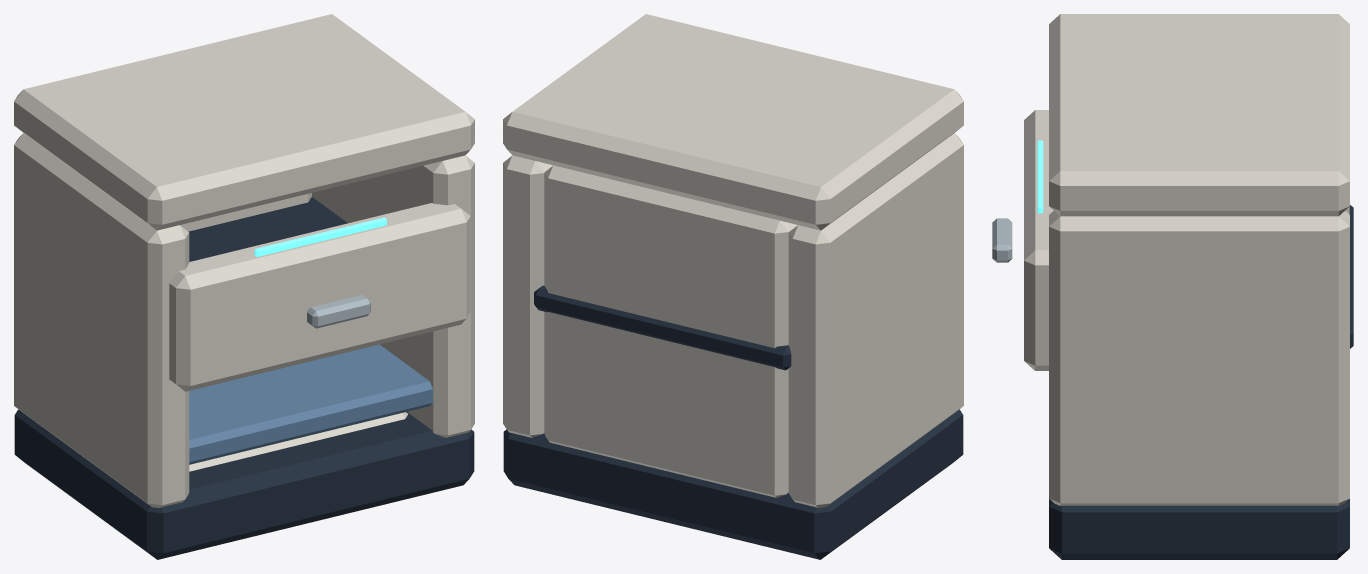
The model's file is living_12.glb.
3 views of the same model, side by side, from view 1: azimuth 30°, elevation 25°; view 2: azimuth 150°, elevation 25°; view 3: azimuth 270°, elevation 25° (orthographic). The views are drawn at different scales.
Visible parts, largest first — view 1: Top, Side (×2), DrawerFace, Base, OpenShelf, DrawerBase, Bottom, Handle, StatusLight, Back; view 2: Back, Side (×2), Top, Base, DrawerBase; view 3: Side, Top, Base, DrawerFace, Handle, DrawerBase, StatusLight.
Part boxes in pixels (bbox=[...]): Top: bbox=[14, 14, 474, 230]; Side (×2): bbox=[14, 133, 474, 507]; DrawerFace: bbox=[169, 203, 470, 391]; Base: bbox=[14, 409, 474, 559]; OpenShelf: bbox=[189, 344, 432, 464]; DrawerBase: bbox=[188, 197, 347, 261]; Bottom: bbox=[189, 412, 407, 471]; Handle: bbox=[307, 295, 370, 328]; StatusLight: bbox=[254, 217, 386, 256]; Back: bbox=[180, 193, 311, 231]; Back: bbox=[544, 165, 797, 497]; Side (×2): bbox=[503, 133, 963, 507]; Top: bbox=[503, 14, 963, 230]; Base: bbox=[503, 409, 963, 559]; DrawerBase: bbox=[534, 285, 791, 370]; Side: bbox=[1049, 211, 1349, 505]; Top: bbox=[1049, 14, 1349, 216]; Base: bbox=[1049, 499, 1349, 559]; DrawerFace: bbox=[1024, 110, 1053, 370]; Handle: bbox=[992, 218, 1012, 262]; DrawerBase: bbox=[1349, 205, 1353, 348]; StatusLight: bbox=[1037, 140, 1043, 213].
Bounding box in the file's own units: 0.55 × 0.6 × 0.504.
